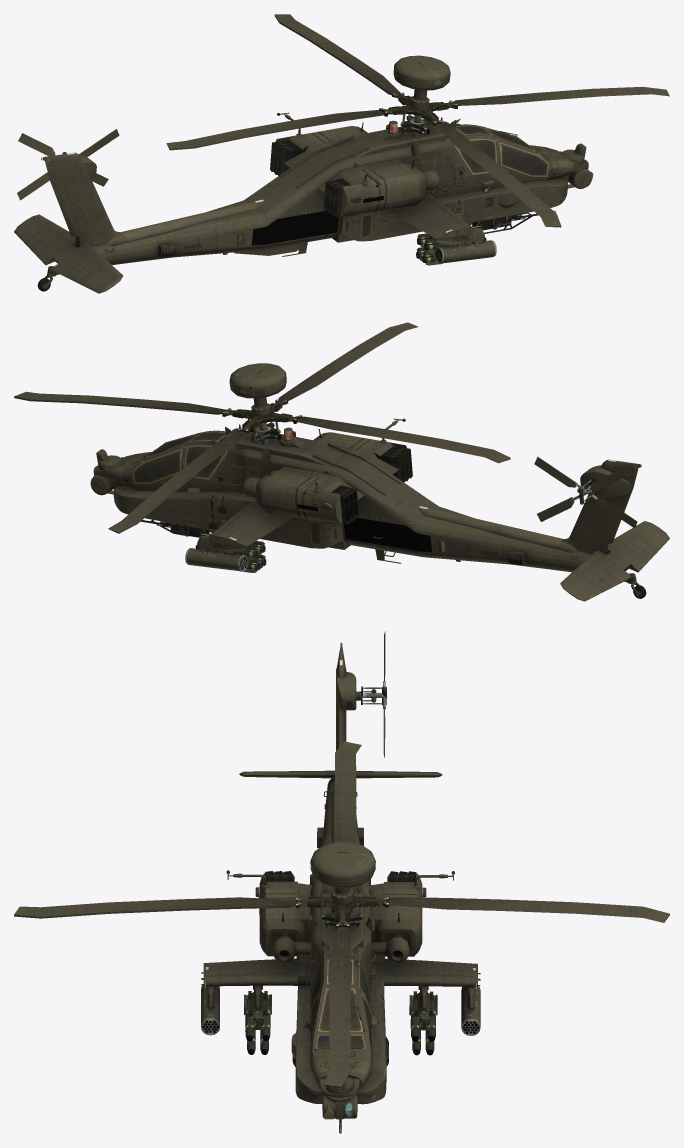
The model's file is apache_helicopter.glb.
3 views of the same model, one above another, from view 1: azimuth 30°, elevation 25°; view 2: azimuth 150°, elevation 25°; view 3: azimuth 270°, elevation 25° (orthographic). The views are drawn at different scales.
Parts seen in each view (by area): view 1: AH_64_Main_Body_0, Fan_L_5, Fan_S_6; view 2: AH_64_Main_Body_0, Fan_L_5, Fan_S_6; view 3: AH_64_Main_Body_0, Fan_L_5.
Part boxes in pixels (x1,y1,x2,y2): AH_64_Main_Body_0: [14, 55, 588, 293]; Fan_L_5: [166, 14, 669, 227]; Fan_S_6: [17, 129, 119, 200]; AH_64_Main_Body_0: [93, 363, 669, 601]; Fan_L_5: [14, 322, 510, 533]; Fan_S_6: [534, 457, 637, 528]; AH_64_Main_Body_0: [201, 642, 480, 1133]; Fan_L_5: [14, 741, 669, 1088].
Bounding box in the file's own units: 2.5 × 0.732 × 1.96.
6 materials, 6 textured.
